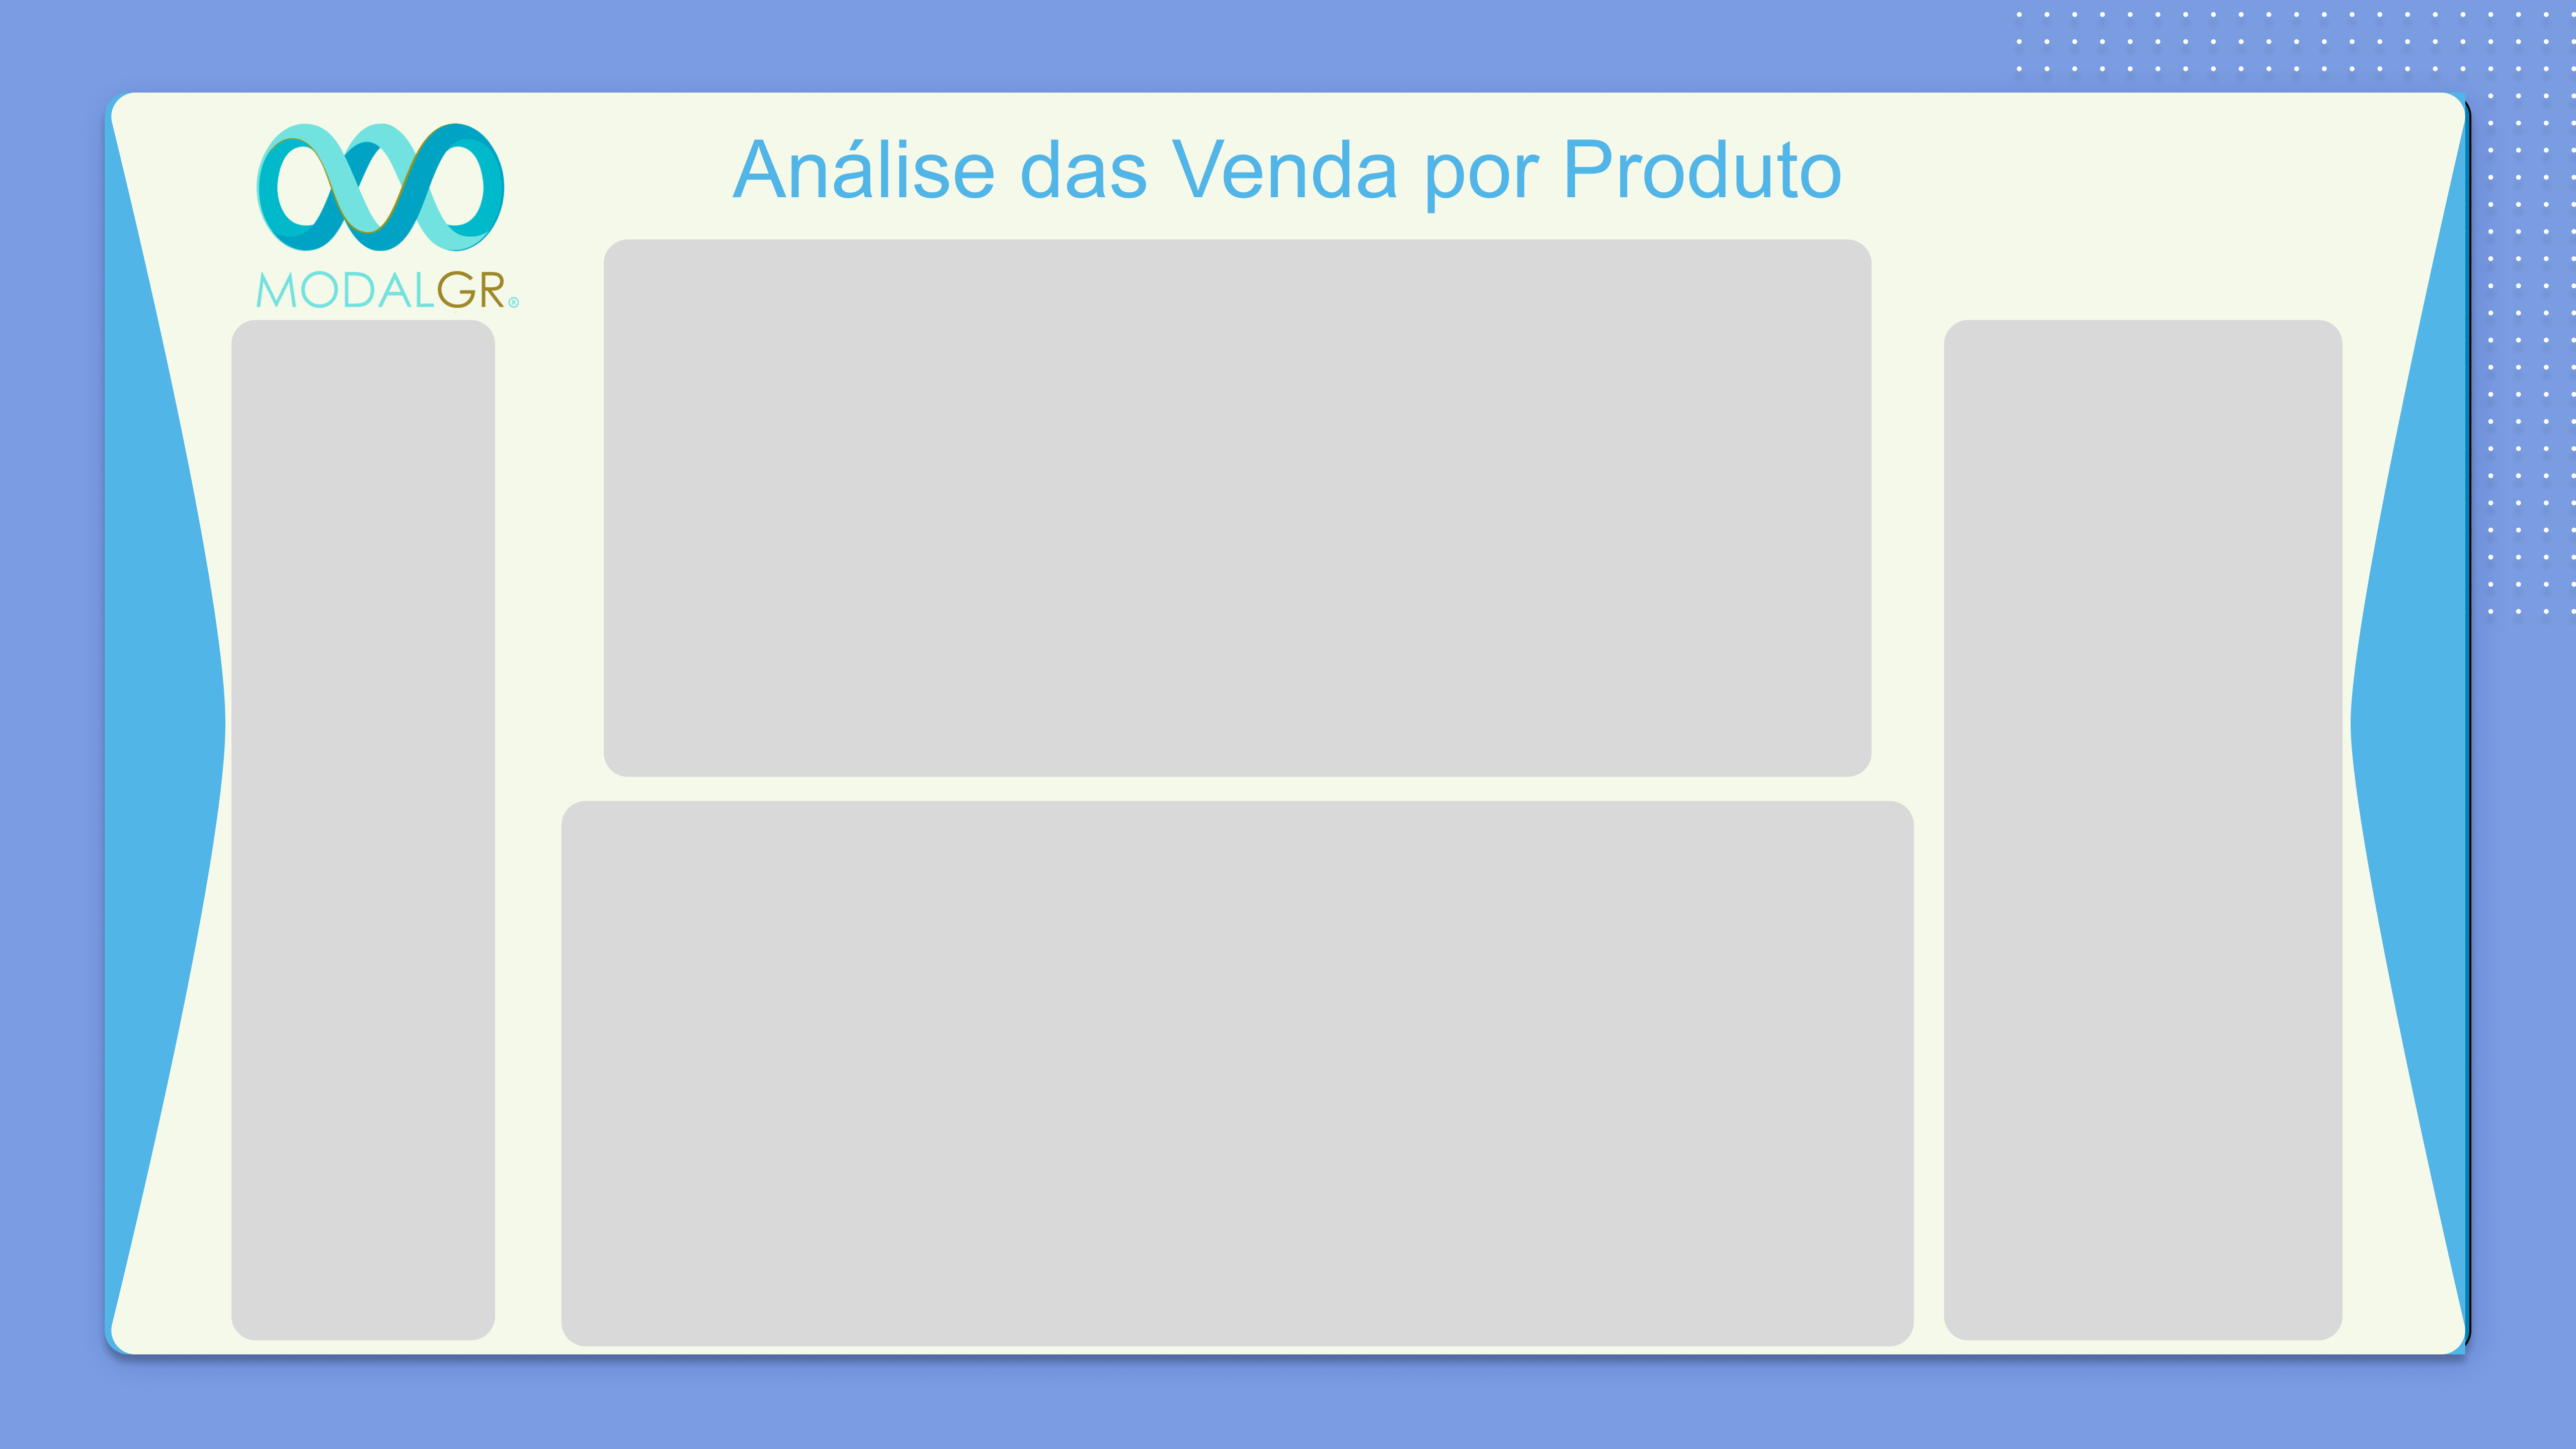

The page's visual inventory and layout, read from the dashboard file:
{"tool":"powerbi","page":{"name":"Grupo de Análise 3: Análise por Produto","canvas":[1280,720],"ordinal":2},"visuals":[{"type":"tableEx","fields":{"Values":["Vendas.Produto","Vendas.Total de Vendas","Vendas.Lucro Total"]},"box":[522.9,400,424.3,264.3],"z":0},{"type":"advancedSlicerVisual","title":"Produtos","fields":{"Values":["Vendas.Produto"]},"box":[962.9,161.4,208.6,507.1],"z":1000},{"type":"advancedSlicerVisual","title":"Categorias","fields":{"Values":["Vendas.Categoria"]},"box":[112.9,161.4,131.4,507.1],"z":2000},{"type":"multiRowCard","title":"Produtos com uma Única Venda","fields":{"Values":["Vendas.Produto","Vendas.Total de Vendas"]},"box":[278.6,431.4,244.3,202.9],"z":3000},{"type":"funnel","fields":{"Y":["Vendas.Receita Total","Vendas.Lucro Total","Vendas.Custo Total","Vendas.Valor Medio de Venda"]},"box":[304.3,111.4,631.4,268.6],"z":4000},{"type":"actionButton","box":[1172.1,340.2,42.5,39.7],"z":5000},{"type":"actionButton","box":[60.9,340.2,39.7,39.7],"z":6000}]}

Visuals, with their boxes in screenshot pixels (x1, y1, x2, y2), scaled from the page's 1280x720 canvas onto the 2576x1449 screenshot:
tableEx - Vendas.Produto x Vendas.Total de Vendas: 1053 805 1906 1337
"Produtos" advancedSlicerVisual: 1938 325 2358 1345
"Categorias" advancedSlicerVisual: 227 325 492 1345
"Produtos com uma Única Venda" multiRowCard: 560 868 1053 1276
funnel - Vendas.Receita Total x Vendas.Lucro Total: 612 224 1883 765
actionButton: 2359 685 2444 765
actionButton: 123 685 202 765
